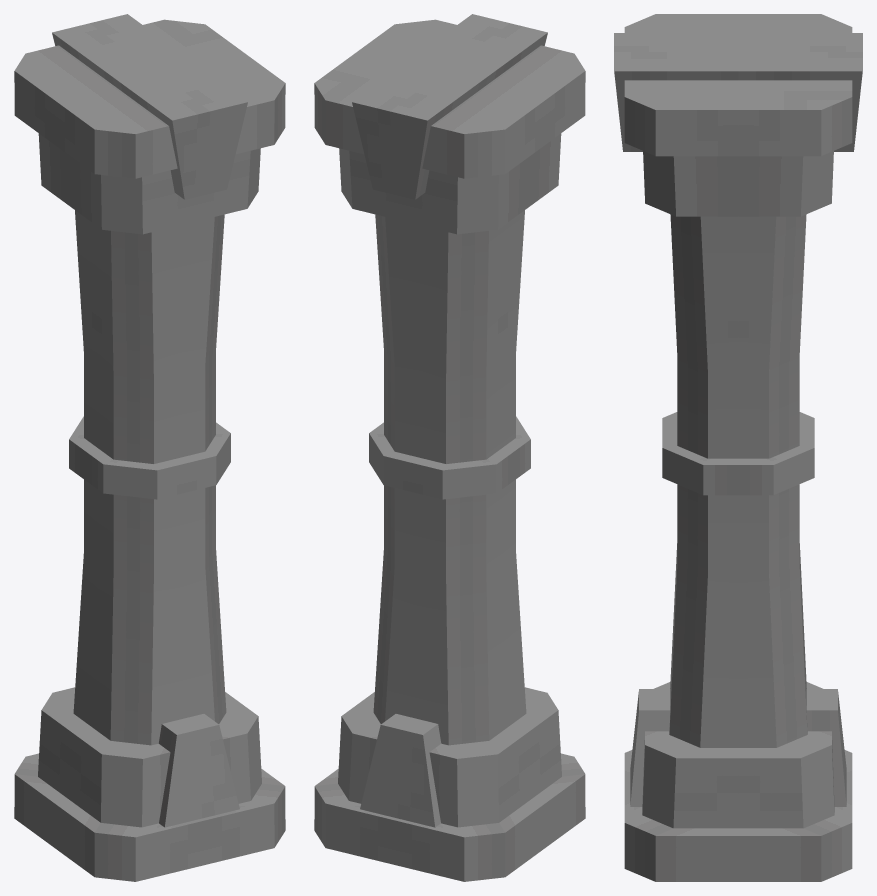
File: KasteelPilaar.fbx
3 views of the same model, side by side, from view 1: azimuth 30°, elevation 25°; view 2: azimuth 150°, elevation 25°; view 3: azimuth 270°, elevation 25° (orthographic). The views are drawn at different scales.
Visible parts, largest first — view 1: Cube; view 2: Cube; view 3: Cube.
Part boxes in pixels (left/top/right/bottom): Cube: left=14, top=14, right=285, bottom=881; Cube: left=314, top=14, right=585, bottom=881; Cube: left=614, top=14, right=862, bottom=881.
Bounding box in the file's own units: 1.28 × 4.84 × 1.39.
